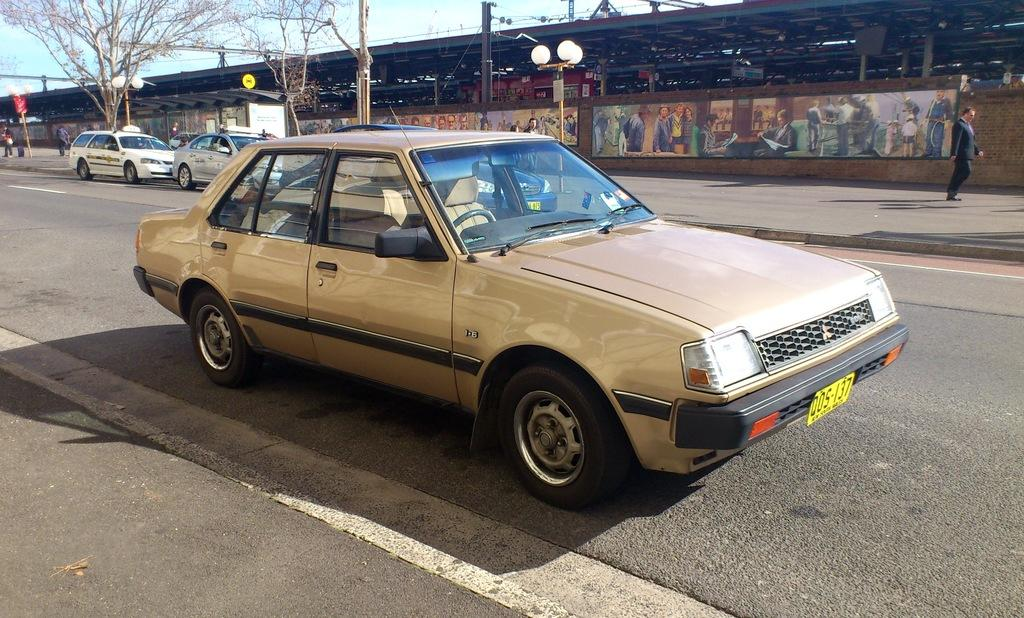Car: (134, 122, 910, 505), (178, 129, 288, 188), (70, 131, 177, 182)
